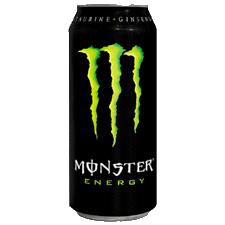grozi_42: (69, 5, 156, 220)
